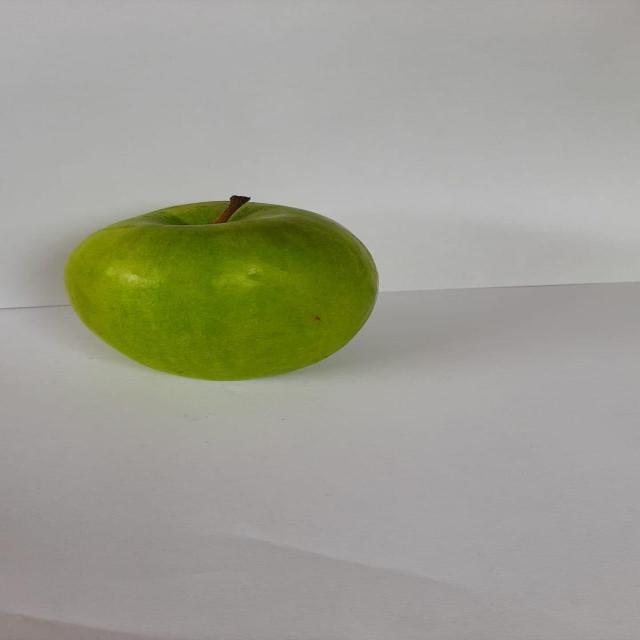Rotten Apple: (48, 190, 392, 390)
